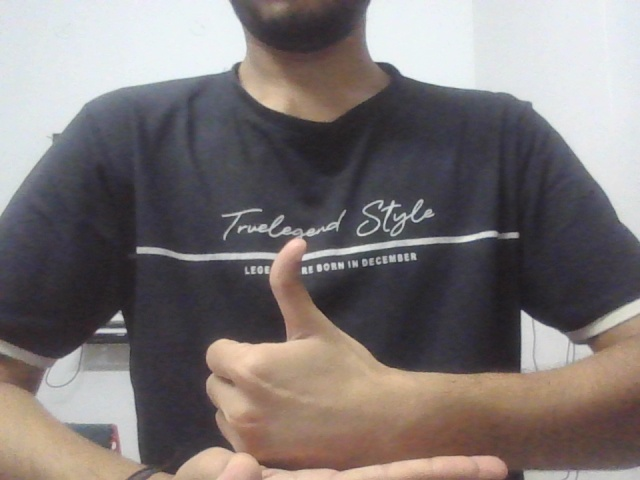Help: (137, 211, 525, 480)
